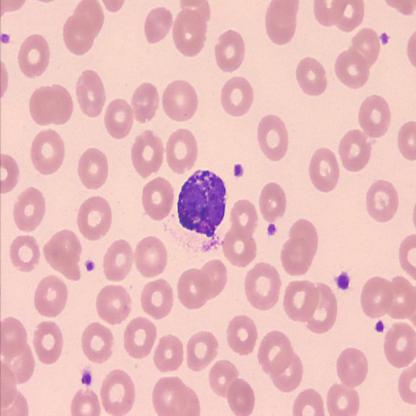Basophil: (174, 167, 228, 241)
